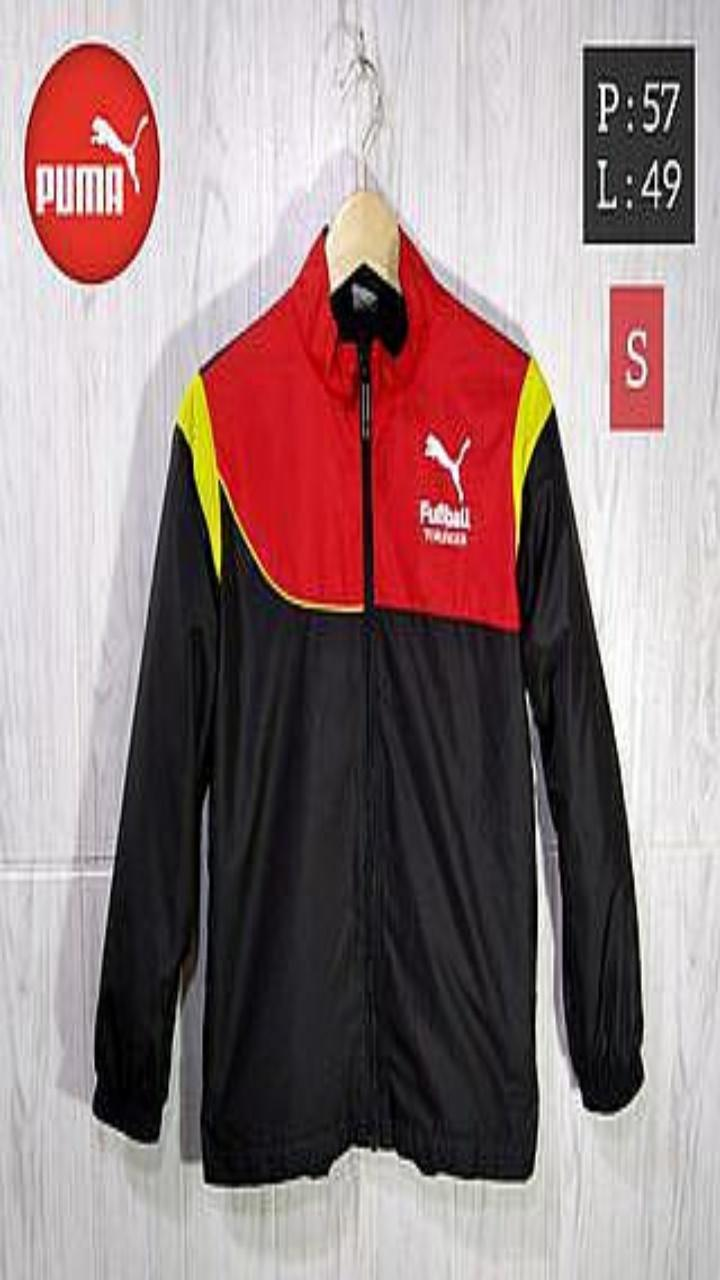Sports_Jacket: (92, 224, 643, 1184)
